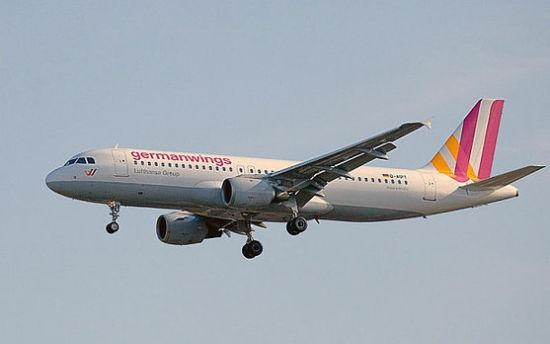airplane: (45, 98, 547, 261)
